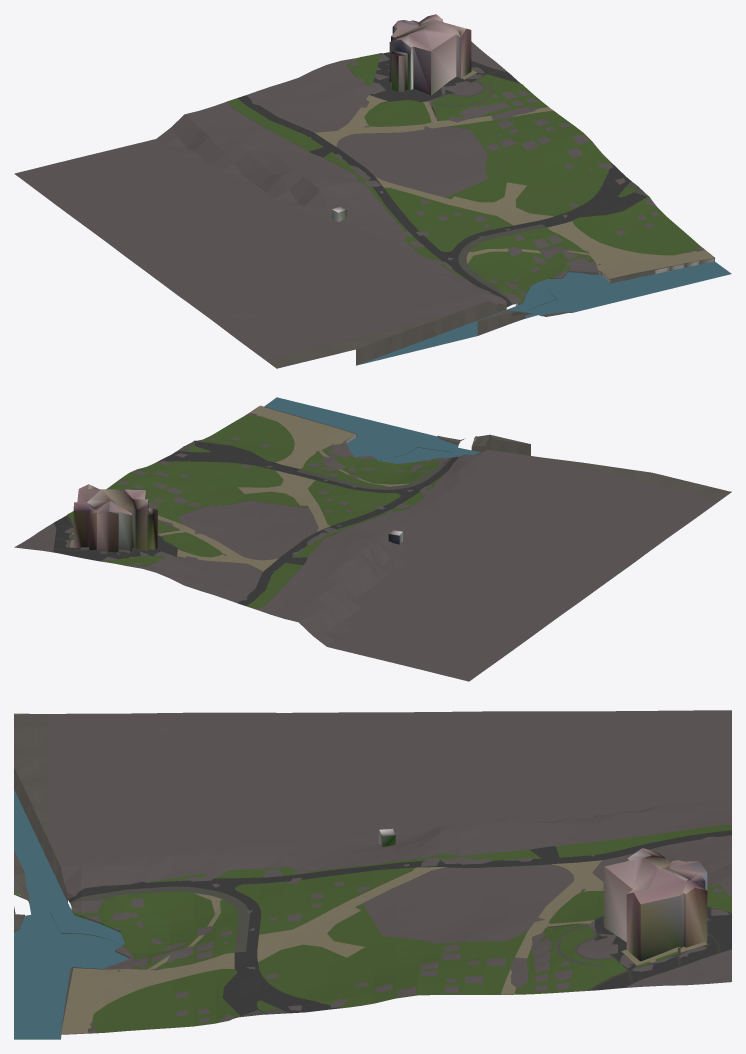
3 renders of one model, top to bottom at view 1: azimuth 30°, elevation 25°; view 2: azimuth 150°, elevation 25°; view 3: azimuth 270°, elevation 25°, orthographic. The views are drawn at different scales.
Parts seen in each view (by area): view 1: c_m06_m10, append:c_m06_m10; view 2: c_m06_m10, append:c_m06_m10; view 3: c_m06_m10, append:c_m06_m10.
Boxes of the visible parts, <box> form: c_m06_m10: <box>14,14,731,368</box>; append:c_m06_m10: <box>356,257,714,365</box>; c_m06_m10: <box>14,397,731,681</box>; append:c_m06_m10: <box>344,434,530,455</box>; c_m06_m10: <box>14,710,731,1039</box>; append:c_m06_m10: <box>14,767,130,1037</box>.
Bounding box in the file's own units: 128 × 25.68 × 128.
